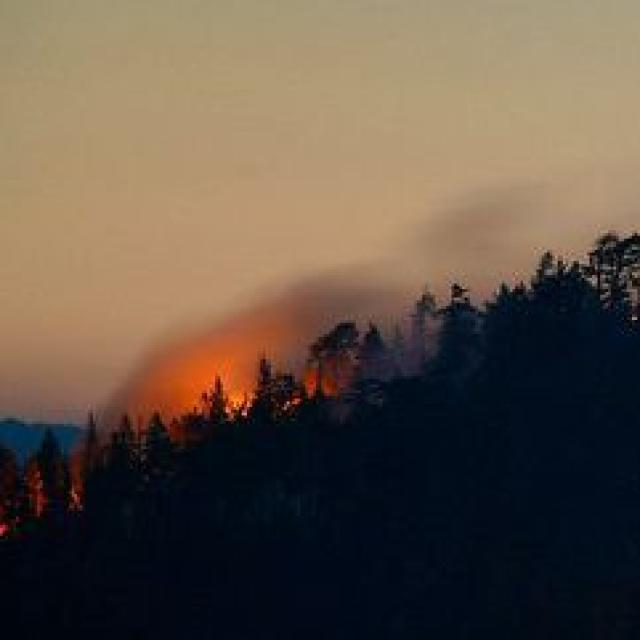Smoke: (104, 182, 572, 428)
